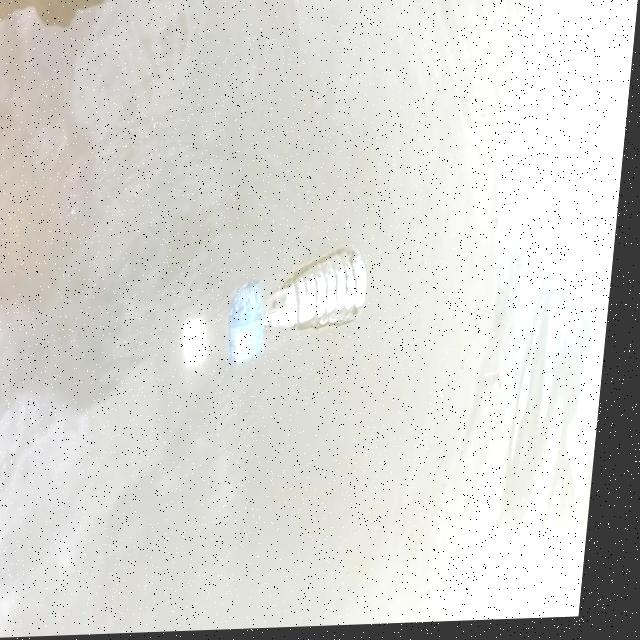waterbottle: (185, 242, 395, 383)
